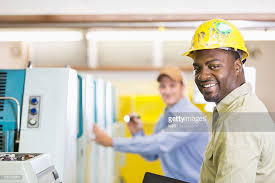Person_wearing_helmet: (188, 17, 250, 75)
